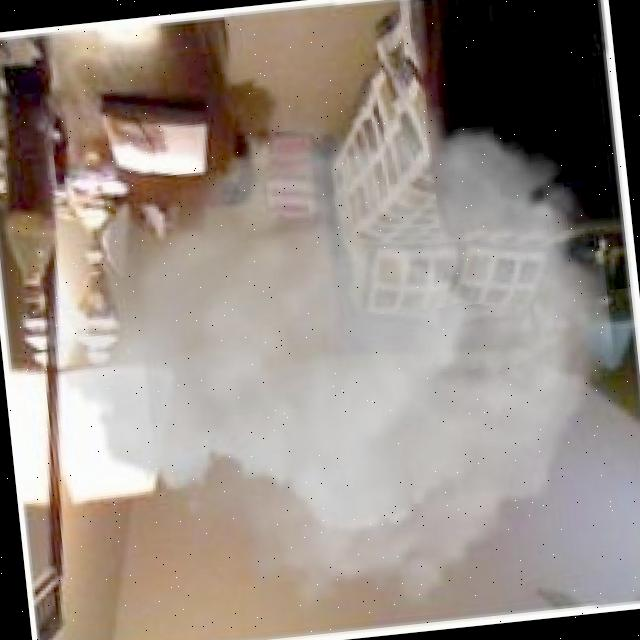smoke: (22, 56, 639, 640)
